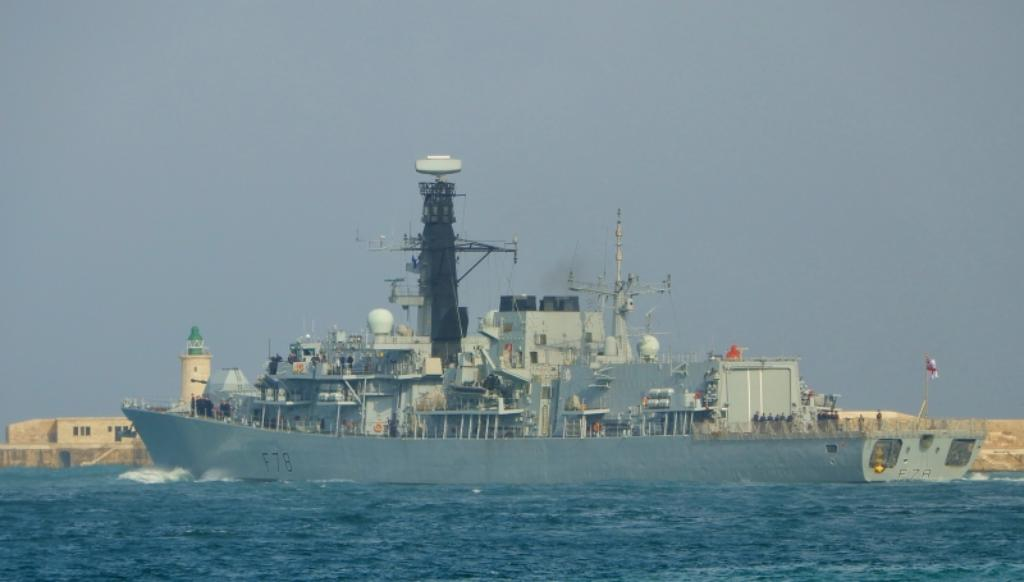Warship: (120, 154, 990, 504)
